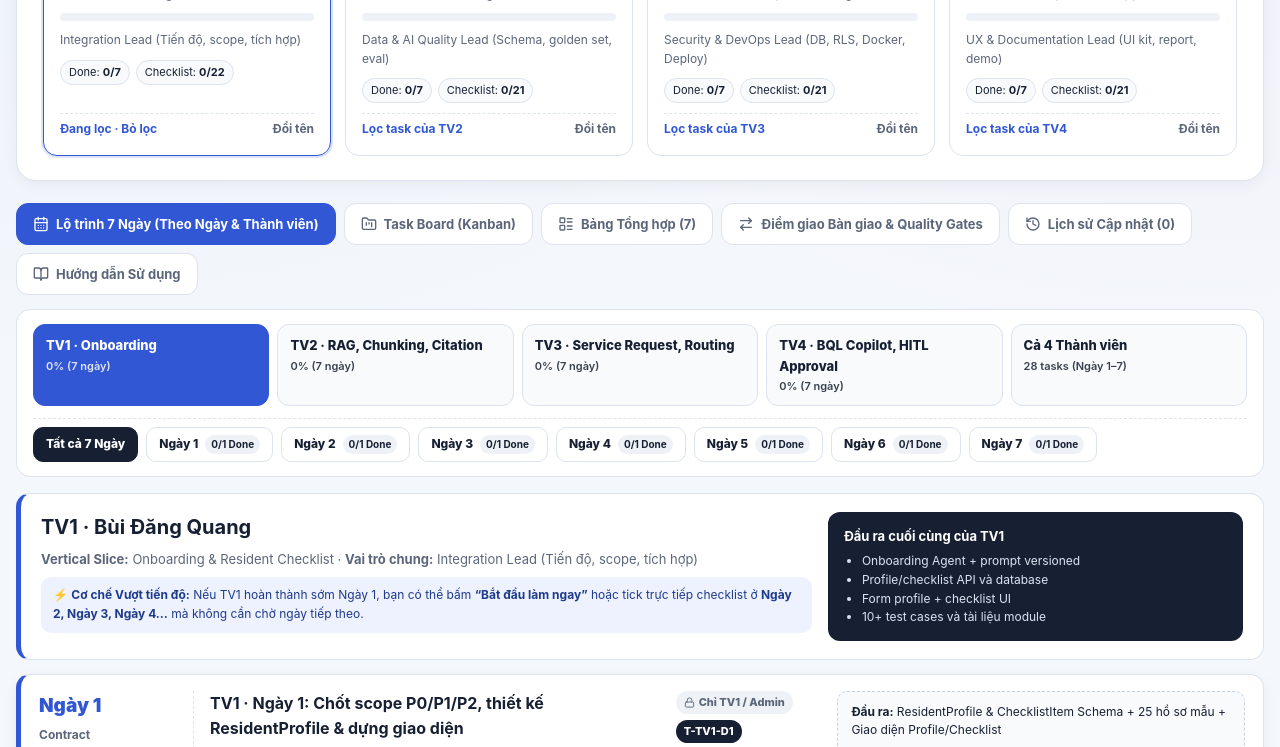
Test: MoveInMate Tracker UI Smoke, RBAC Login & 7-Day Roadmap Flow › starts in Read-Only mode when unauthenticated and allows viewing any member roadmap
This screenshot has width=1280, height=747.
(page scrolled)
Expected: the heading "TV1 · Ngày 1: Chốt scope P0/P1/P2" is shown, x1=210 y1=693 x2=544 y2=738
Click the button "TV2 · RAG, Chunking, Citation 0% (7 ngày)". click: click(396, 365)
box: x1=277 y1=324 x2=514 y2=406
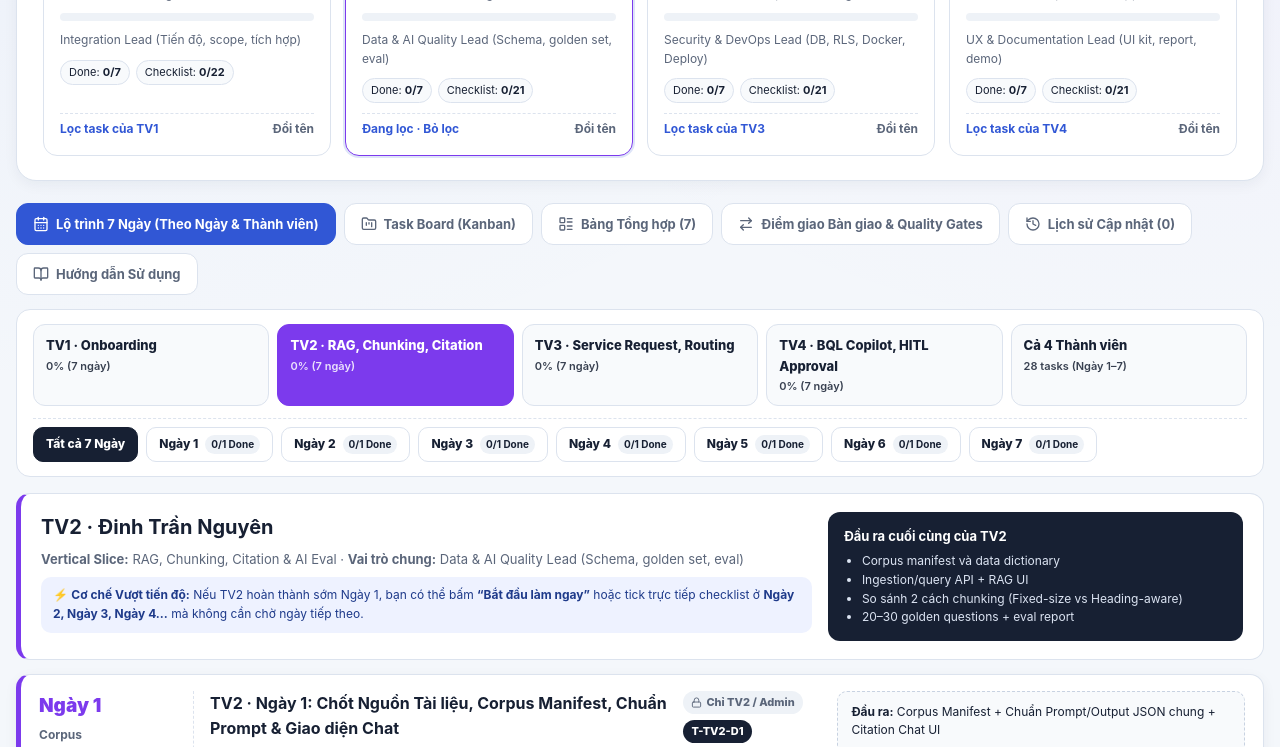
Now the heading "TV2 · Ngày 1: Chốt Nguồn Tài liệu, Corpus Manifest" is shown, box x1=210 y1=693 x2=667 y2=738
